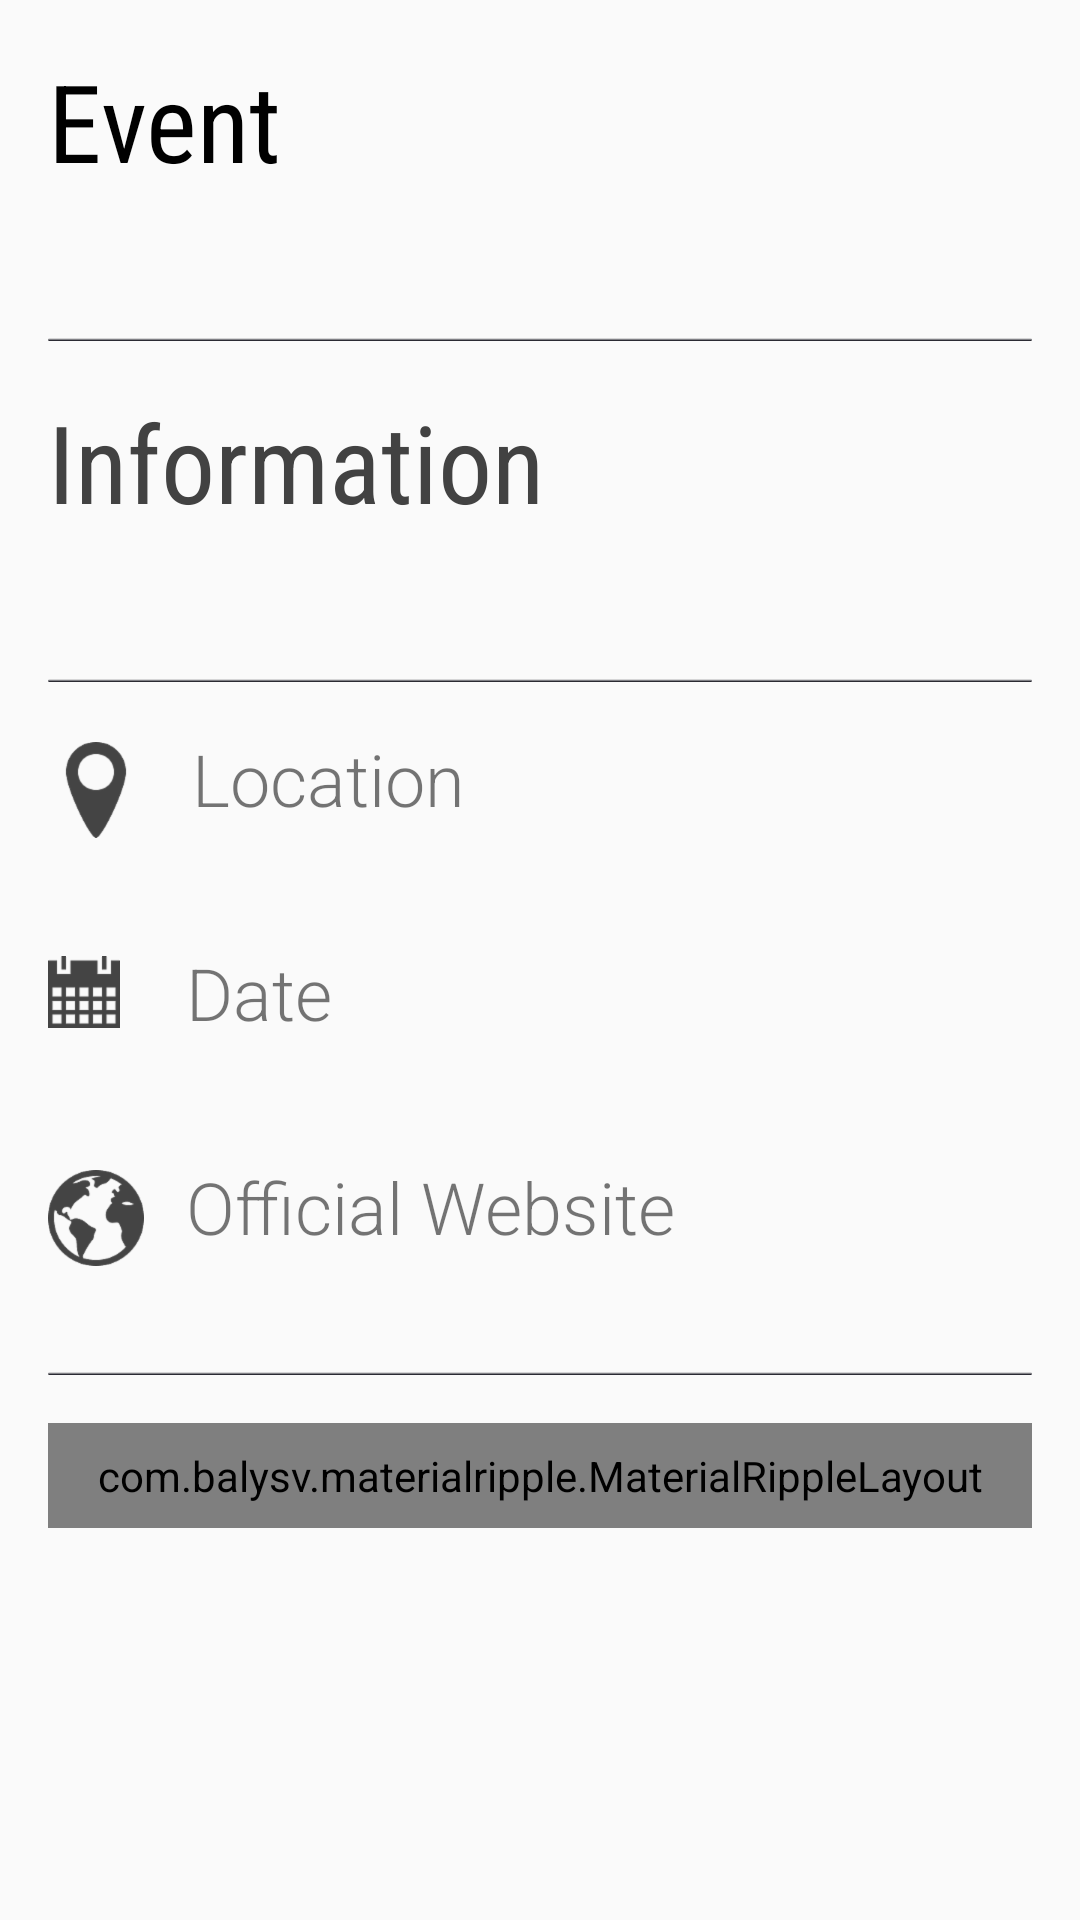

Where to tap for icons on this 1080×1920 app screen, as (x,y):
calendar: (84,992)
earth globe: (96,1218)
